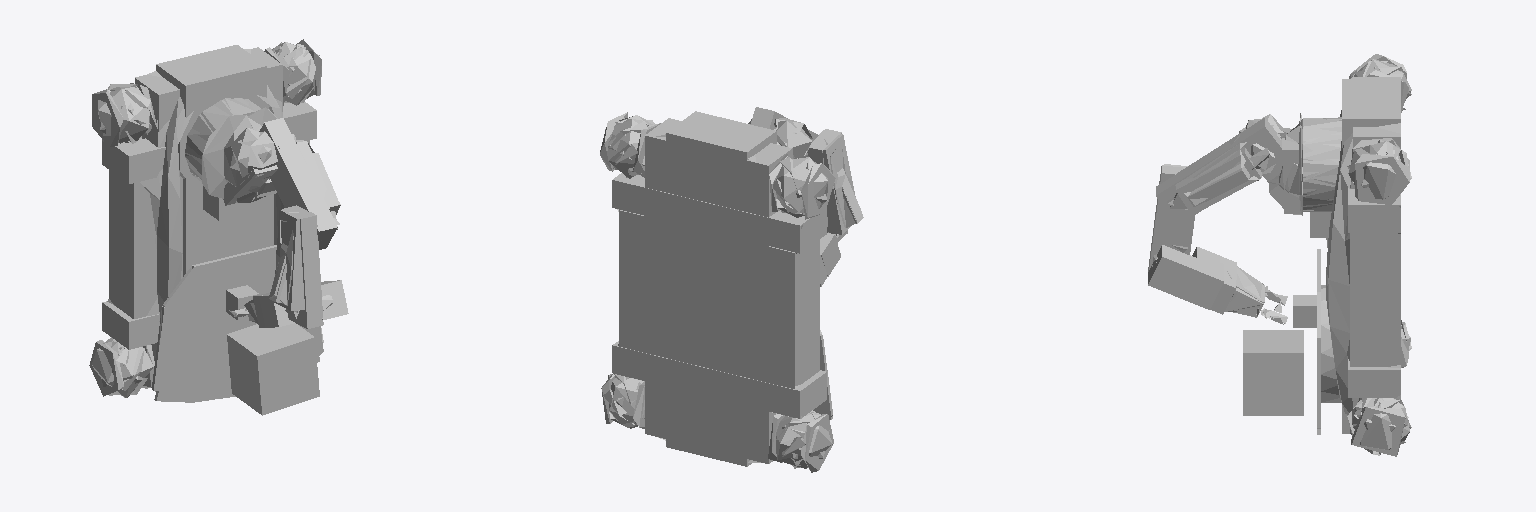
File: youbot_simple5.obj
The picture shows the model from 3 angles: view 1: azimuth 30°, elevation 25°; view 2: azimuth 150°, elevation 25°; view 3: azimuth 270°, elevation 25°; orthographic projection.
Bounding box in the file's own units: 0.4143 × 0.5701 × 0.4339.